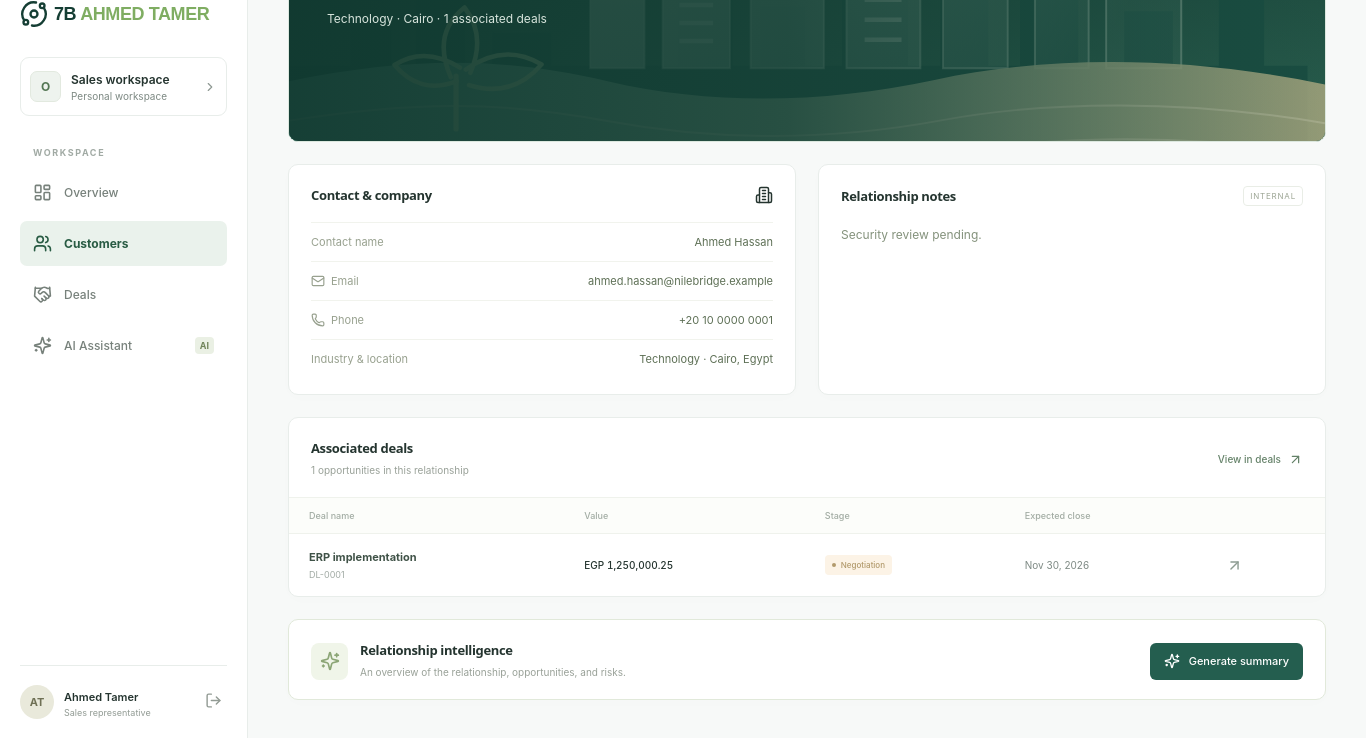
Test case: workspace integration › renders an AI summary with facts and record citations
(page scrolled)
Click the button "Generate summary" at (1226, 661), box [1150,643,1303,680]
(page scrolled)
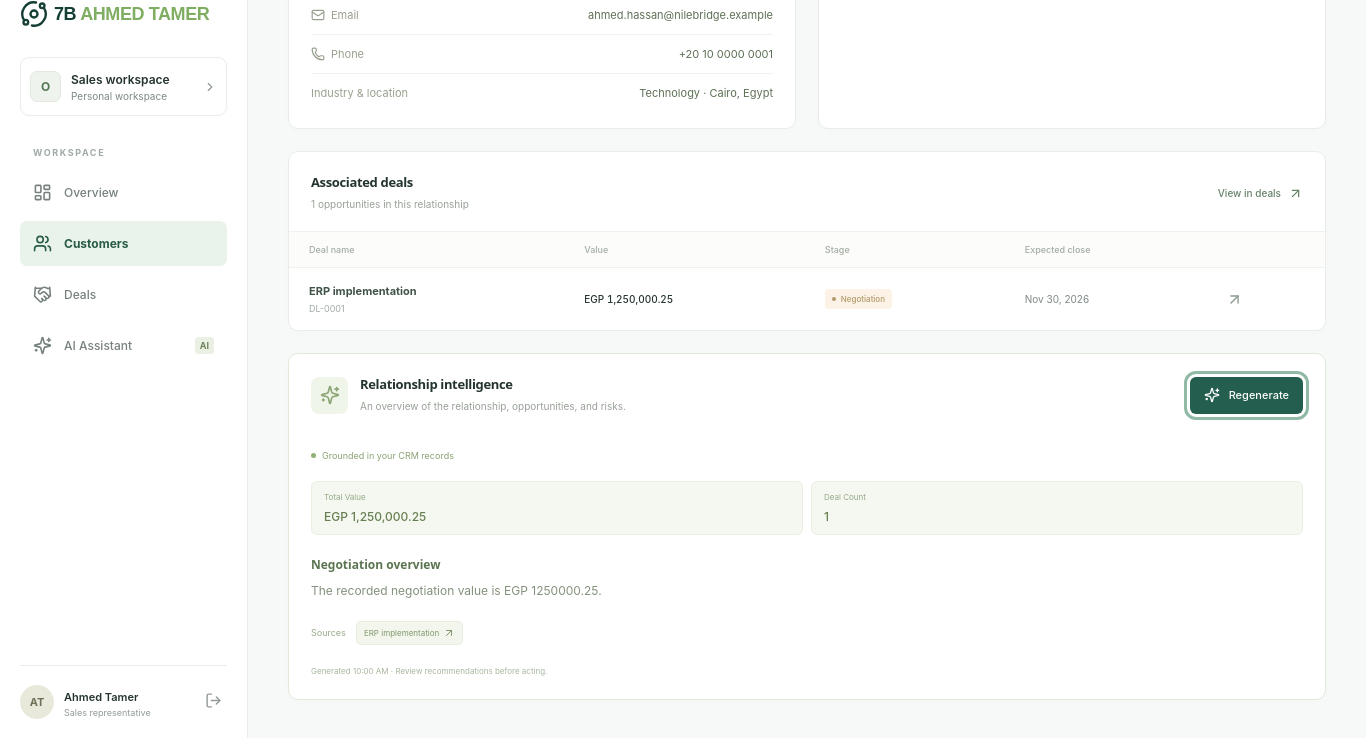
Expected: the number of links "ERP implementation" is 2, [309,284,417,298]; [356,621,463,645]
Expected: the heading "Negotiation overview" is shown, [311,556,440,573]
Expected: the text "The recorded negotiation value is EGP 1250000.25." is shown, [311,583,602,598]
